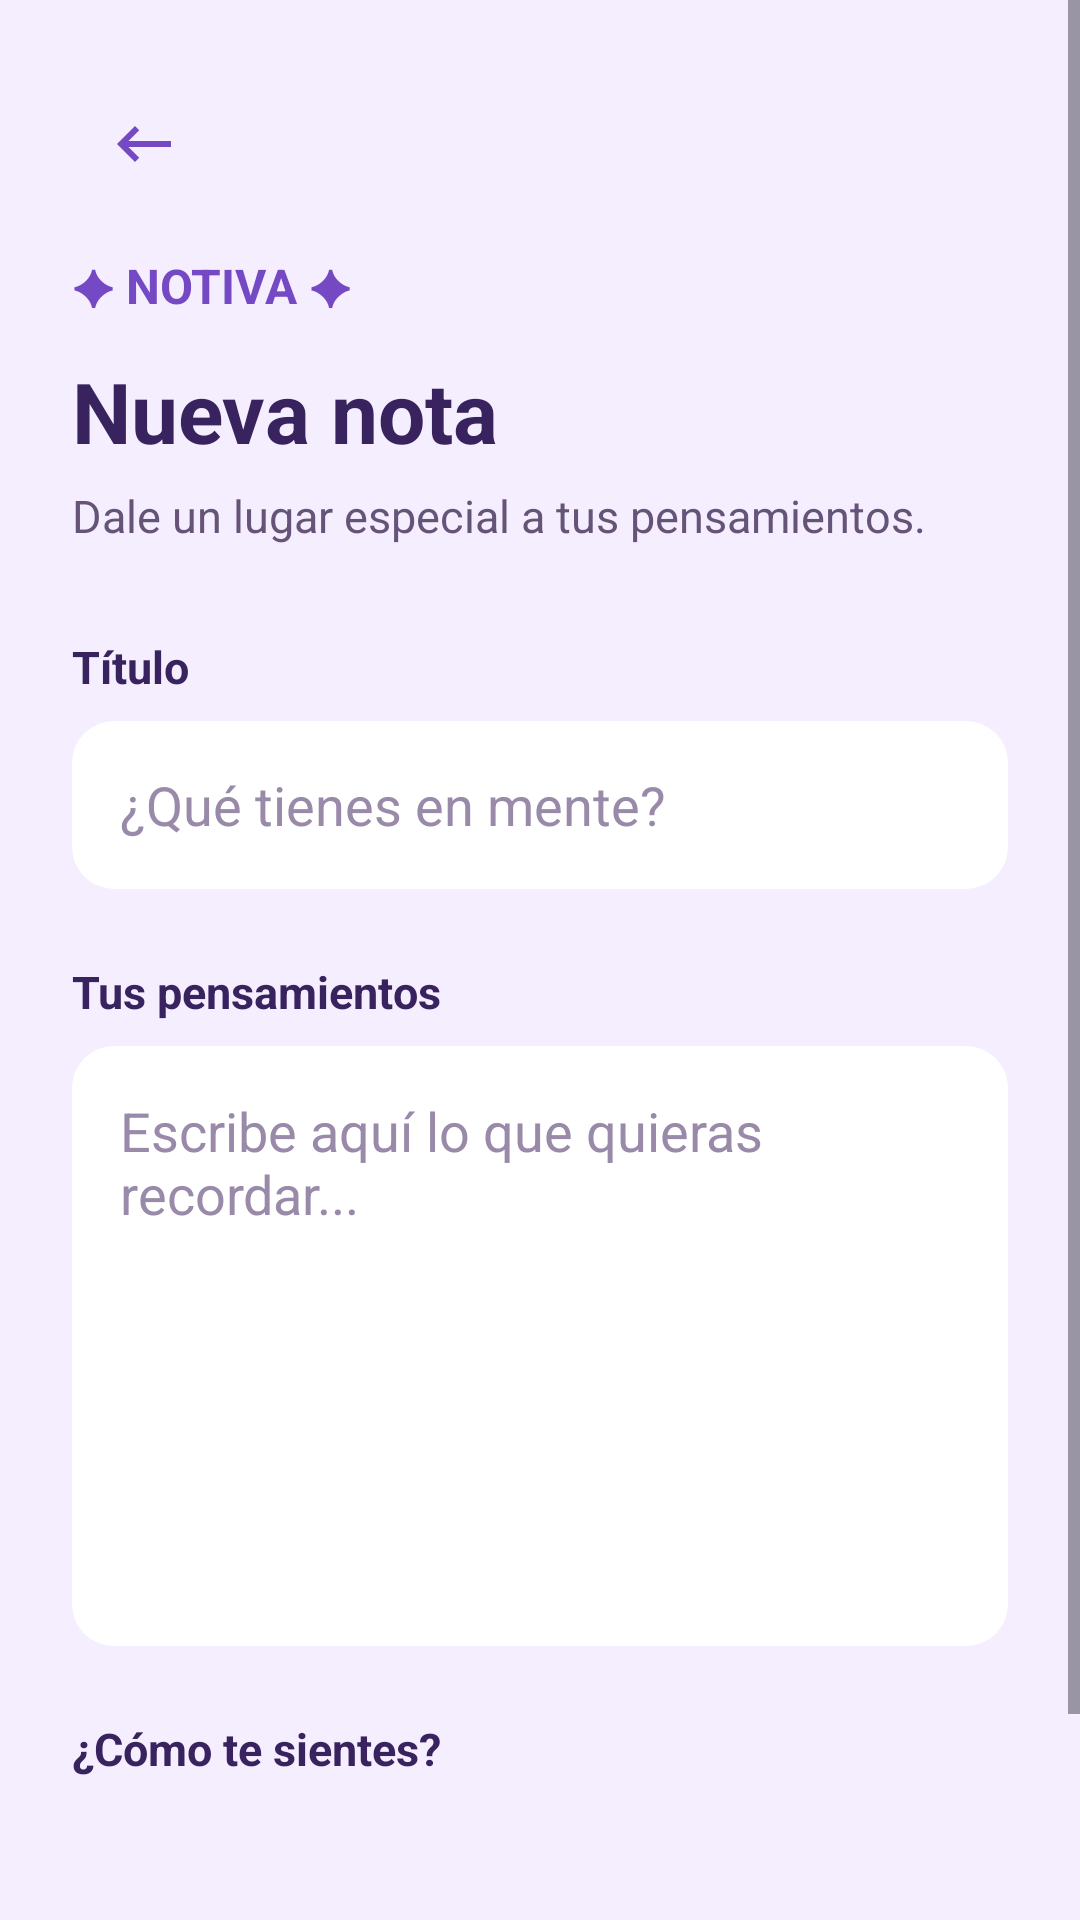

Named icons in this screenshot (1080px x 1920px) and their bounding boxes, box=[x1, y1, x2, y2]:
Volver a mis notas: box=[117, 126, 171, 162]
